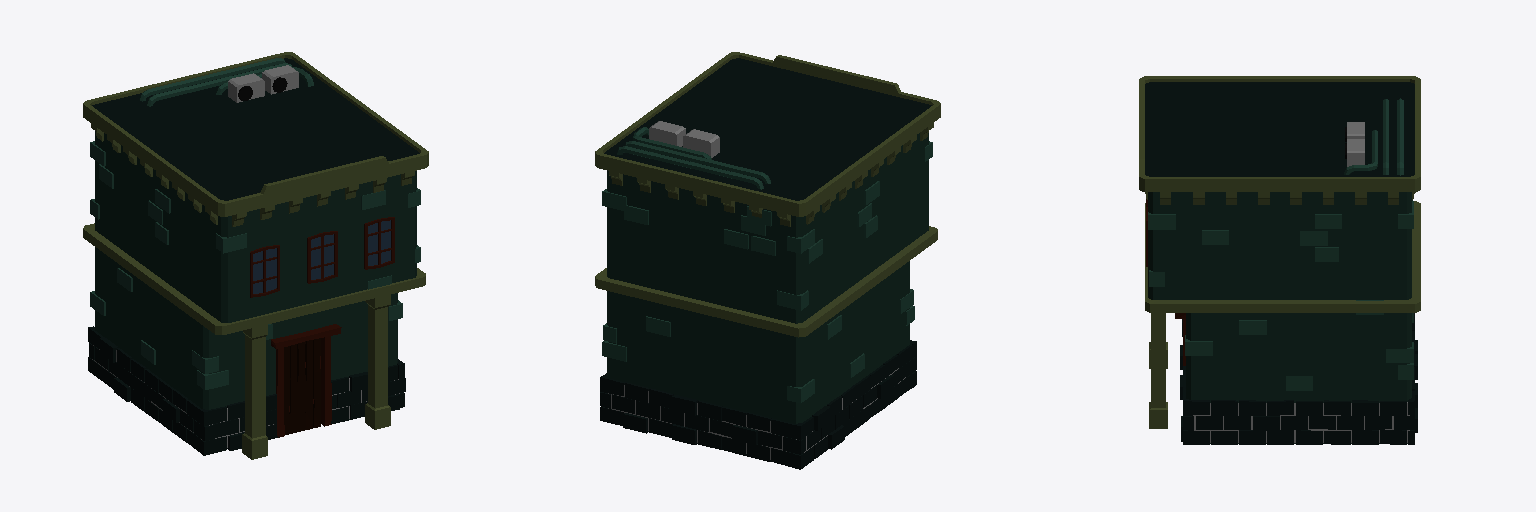
Rendered from 2Story_Columns_Mat.obj.
3 renders of one model, left to right at view 1: azimuth 30°, elevation 25°; view 2: azimuth 150°, elevation 25°; view 3: azimuth 270°, elevation 25°, orthographic.
Visible parts, largest first — view 1: 2Story_Columns_Mat_Cube.035; view 2: 2Story_Columns_Mat_Cube.035; view 3: 2Story_Columns_Mat_Cube.035.
Boxes of the visible parts, <box> form: 2Story_Columns_Mat_Cube.035: <box>83,52,428,459</box>; 2Story_Columns_Mat_Cube.035: <box>595,52,940,469</box>; 2Story_Columns_Mat_Cube.035: <box>1139,76,1420,444</box>.
Size of the model in its own units: 2.16 by 2.77 by 2.49.